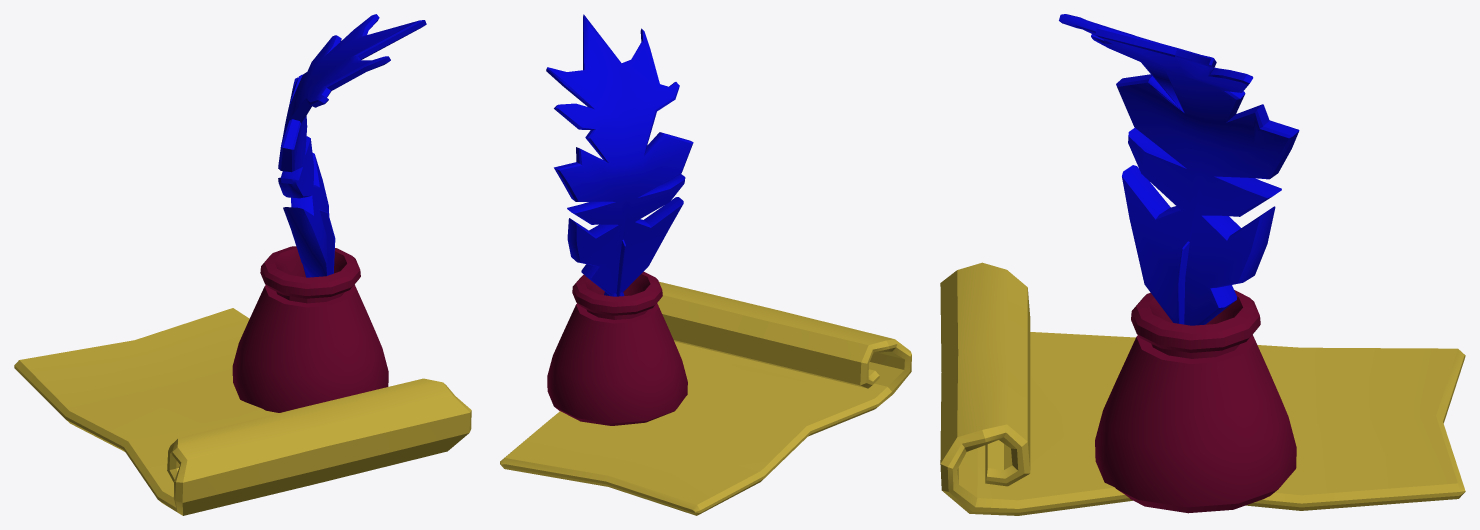
The model's file is Ink.FBX.
The picture shows the model from 3 angles, left to right: view 1: azimuth 30°, elevation 25°; view 2: azimuth 150°, elevation 25°; view 3: azimuth 270°, elevation 25°; orthographic projection. The views are drawn at different scales.
Visible parts, largest first — view 1: Ink; view 2: Ink; view 3: Ink.
Part boxes in pixels (left/top/right/bottom): Ink: left=14, top=14, right=471, bottom=515; Ink: left=500, top=14, right=911, bottom=515; Ink: left=940, top=14, right=1465, bottom=515.
Bounding box in the file's own units: 912 × 1043 × 1116.
